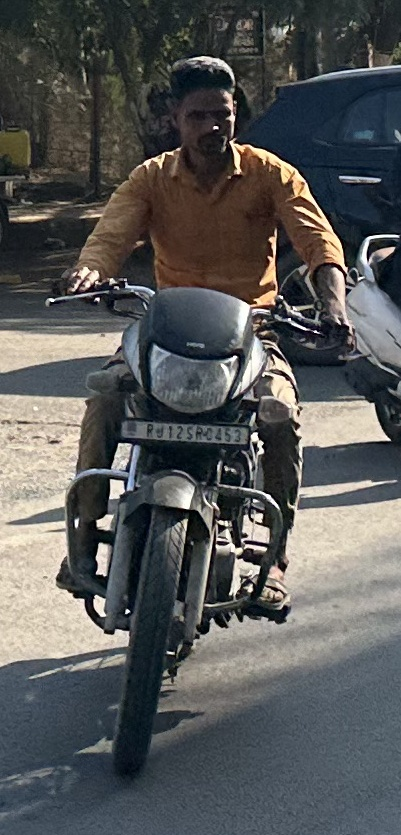BikeWithRider: (39, 47, 368, 786)
NoHelmet: (157, 47, 250, 170)
